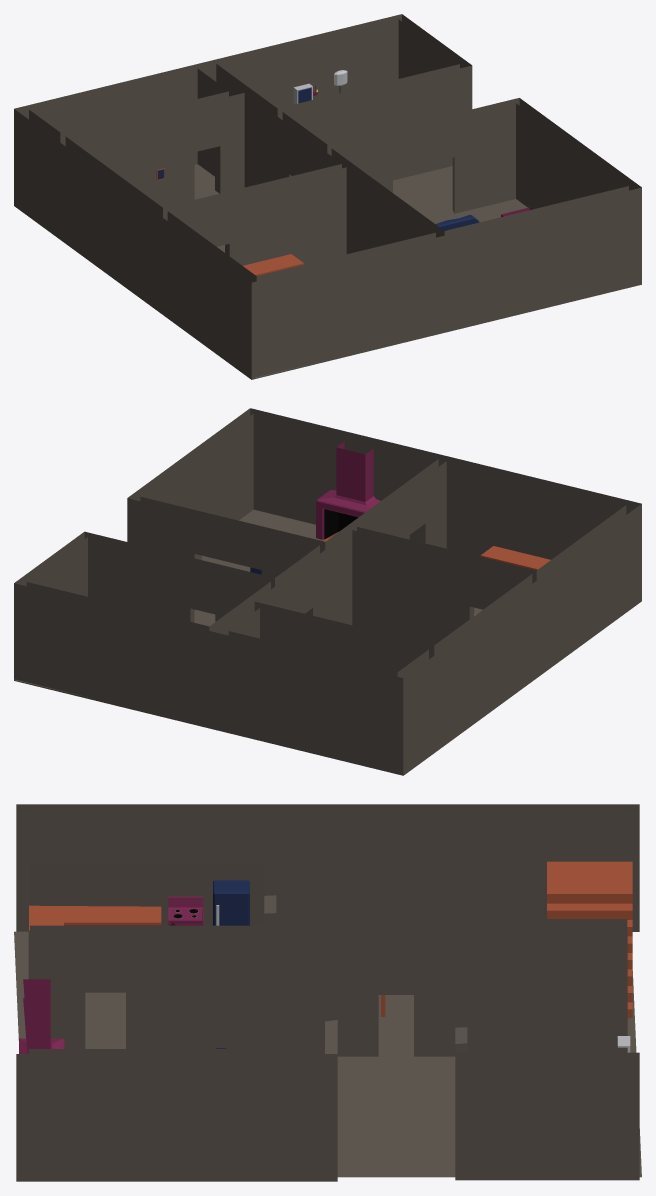
File: phase3.glb
3 renders of one model, top to bottom at view 1: azimuth 30°, elevation 25°; view 2: azimuth 150°, elevation 25°; view 3: azimuth 270°, elevation 25°, orthographic. The views are drawn at different scales.
Parts seen in each view (by area): view 1: HouseInside, Rack; view 2: HouseInside, Fireplace, Balcony; view 3: HouseInside, Balcony, Fireplace, FridgeDoor, Stove.
Boxes of the visible parts, x1,y1,x2,y2 form: HouseInside: [14, 14, 641, 379]; Rack: [243, 254, 303, 275]; HouseInside: [14, 408, 641, 775]; Fireplace: [316, 441, 380, 540]; Balcony: [480, 546, 550, 570]; HouseInside: [14, 804, 641, 1181]; Balcony: [29, 905, 161, 930]; Fireplace: [19, 979, 64, 1053]; FridgeDoor: [213, 891, 249, 925]; Stove: [168, 896, 203, 925].
Size of the model in its own units: 20.99 by 5 by 22.29.
